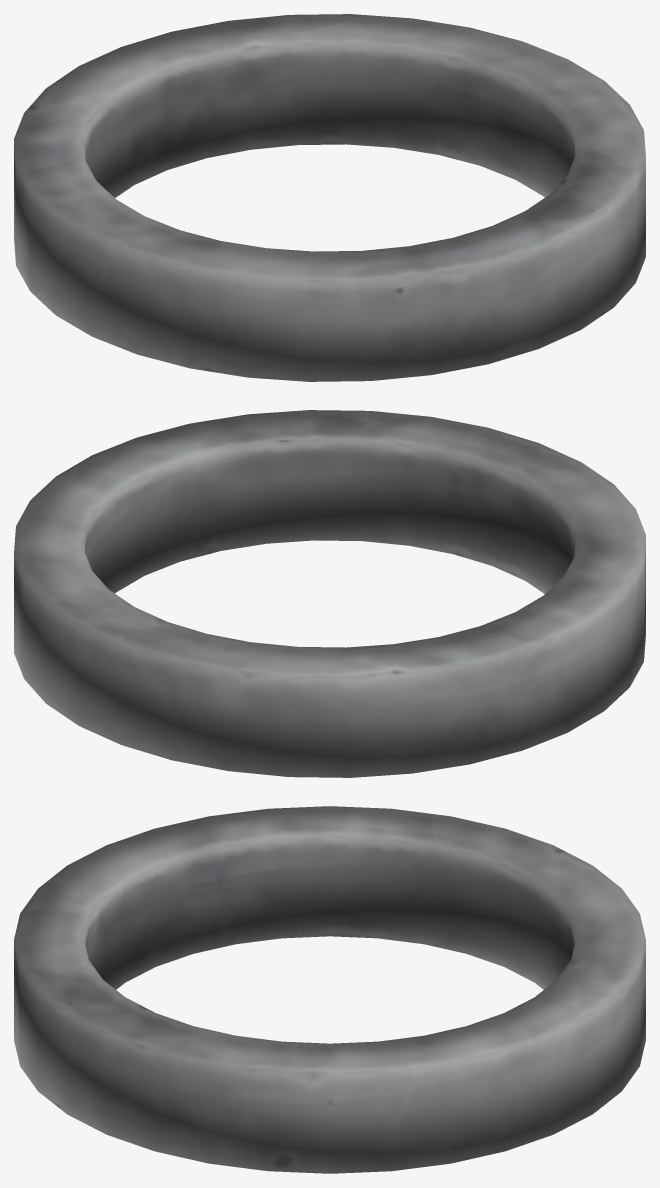
The model's file is SM_CampFireAssets_Low_Cement_Circle.obj.
3 renders of one model, top to bottom at view 1: azimuth 30°, elevation 25°; view 2: azimuth 150°, elevation 25°; view 3: azimuth 270°, elevation 25°, orthographic.
Parts seen in each view (by area): view 1: SM_CampFireAssets_Low_Cement_Circle_MI_CampFire_Assets; view 2: SM_CampFireAssets_Low_Cement_Circle_MI_CampFire_Assets; view 3: SM_CampFireAssets_Low_Cement_Circle_MI_CampFire_Assets.
Part boxes in pixels (bbox=[...]): SM_CampFireAssets_Low_Cement_Circle_MI_CampFire_Assets: bbox=[14, 14, 645, 381]; SM_CampFireAssets_Low_Cement_Circle_MI_CampFire_Assets: bbox=[14, 410, 645, 777]; SM_CampFireAssets_Low_Cement_Circle_MI_CampFire_Assets: bbox=[14, 806, 645, 1173].
Size of the model in its own units: 0.9988 by 0.1754 by 0.9988.
Materials: 1 (1 with a texture image).
